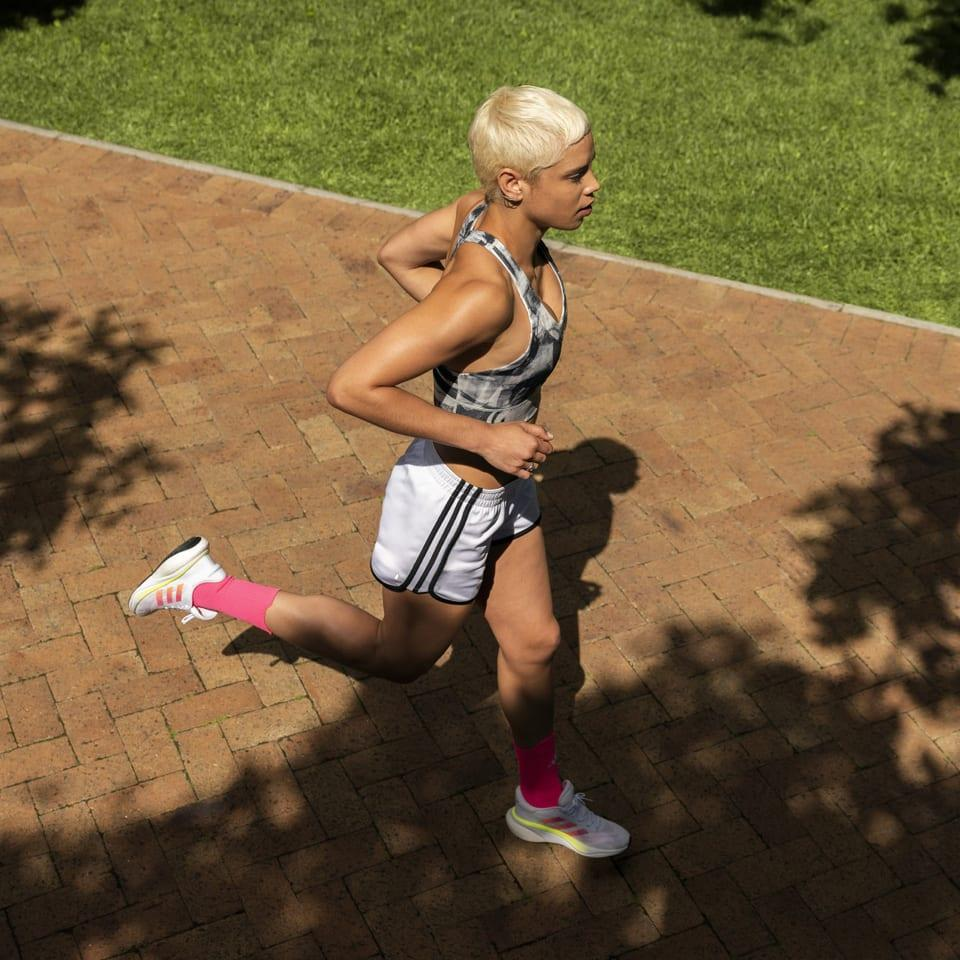adidas logo: (526, 811, 600, 846), (144, 575, 200, 616)
